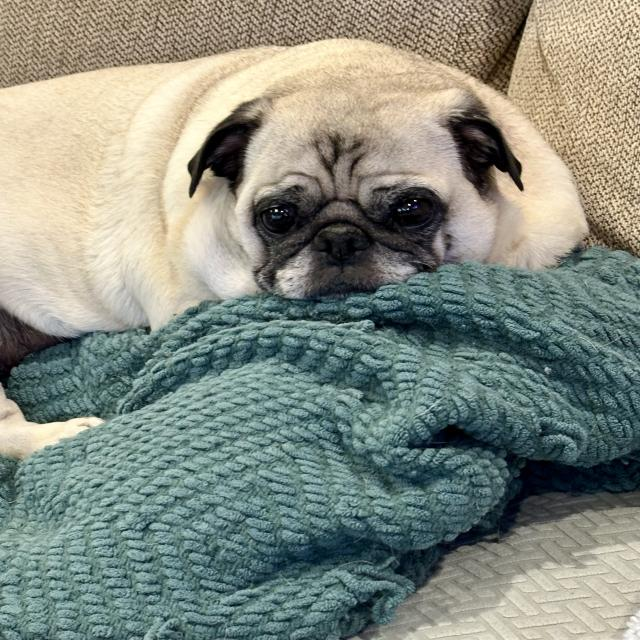pug_dog: (162, 40, 544, 317)
